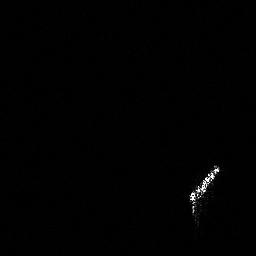ship: (186, 161, 221, 229)
